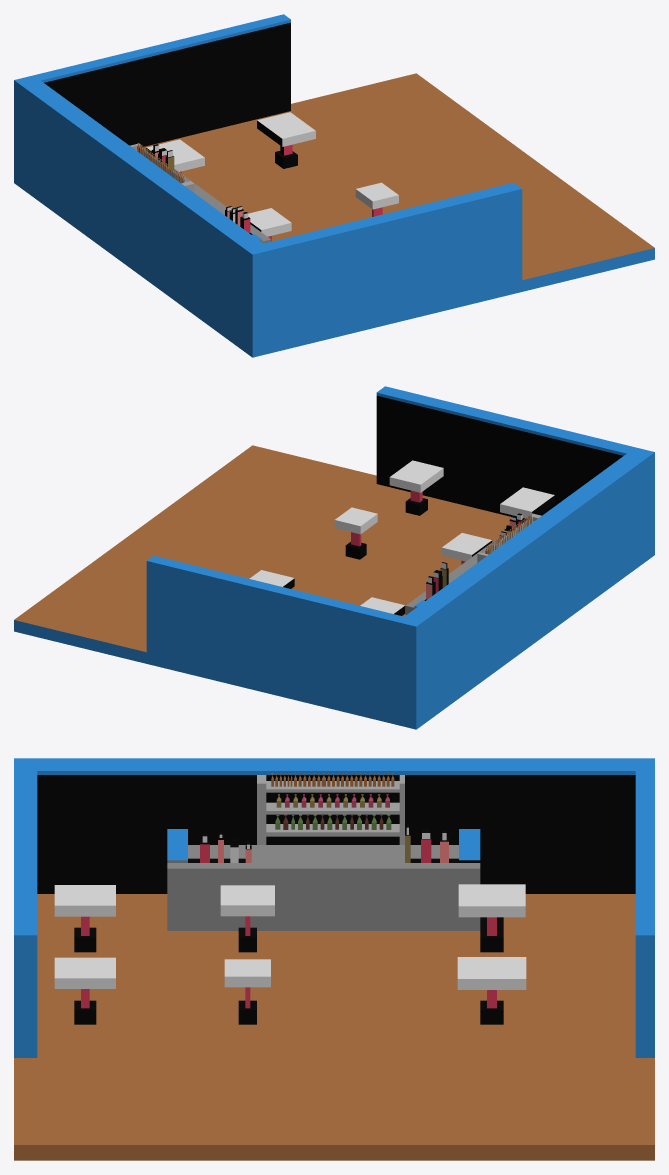
Rendered from Cafe Area 1.fbx.
3 renders of one model, top to bottom at view 1: azimuth 30°, elevation 25°; view 2: azimuth 150°, elevation 25°; view 3: azimuth 270°, elevation 25°, orthographic. The views are drawn at different scales.
Visible parts, largest first — view 1: Cube.007; view 2: Cube.007; view 3: Cube.007.
Part boxes in pixels (left/top/right/bottom): Cube.007: left=14, top=14, right=654, bottom=357; Cube.007: left=14, top=386, right=654, bottom=729; Cube.007: left=14, top=758, right=654, bottom=1160.
Bounding box in the file's own units: 10544 × 2620 × 10824.
